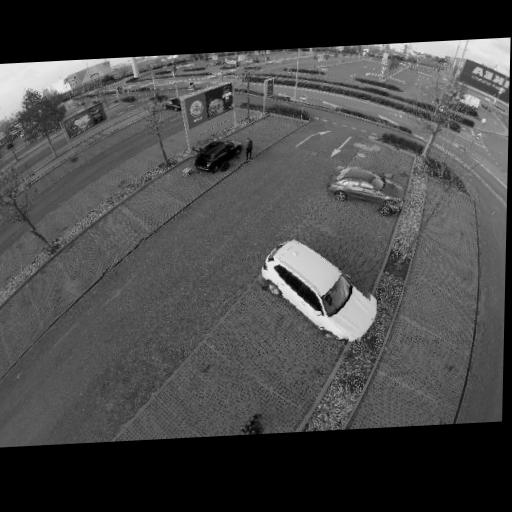busy: (253, 232, 376, 342), (326, 162, 404, 219), (190, 138, 245, 173)
free: (182, 375, 262, 433), (233, 326, 305, 383), (367, 390, 422, 429), (64, 242, 110, 286), (405, 338, 448, 385), (1, 307, 41, 348), (99, 218, 145, 252), (30, 272, 69, 310), (328, 205, 374, 235), (418, 298, 458, 332), (41, 204, 77, 241), (17, 229, 49, 266), (429, 260, 468, 290), (128, 193, 169, 219), (164, 172, 200, 199), (97, 171, 127, 199), (72, 188, 101, 216), (441, 227, 468, 255), (369, 144, 399, 168), (437, 205, 461, 228), (0, 253, 16, 287), (123, 160, 150, 175), (252, 121, 274, 139)
